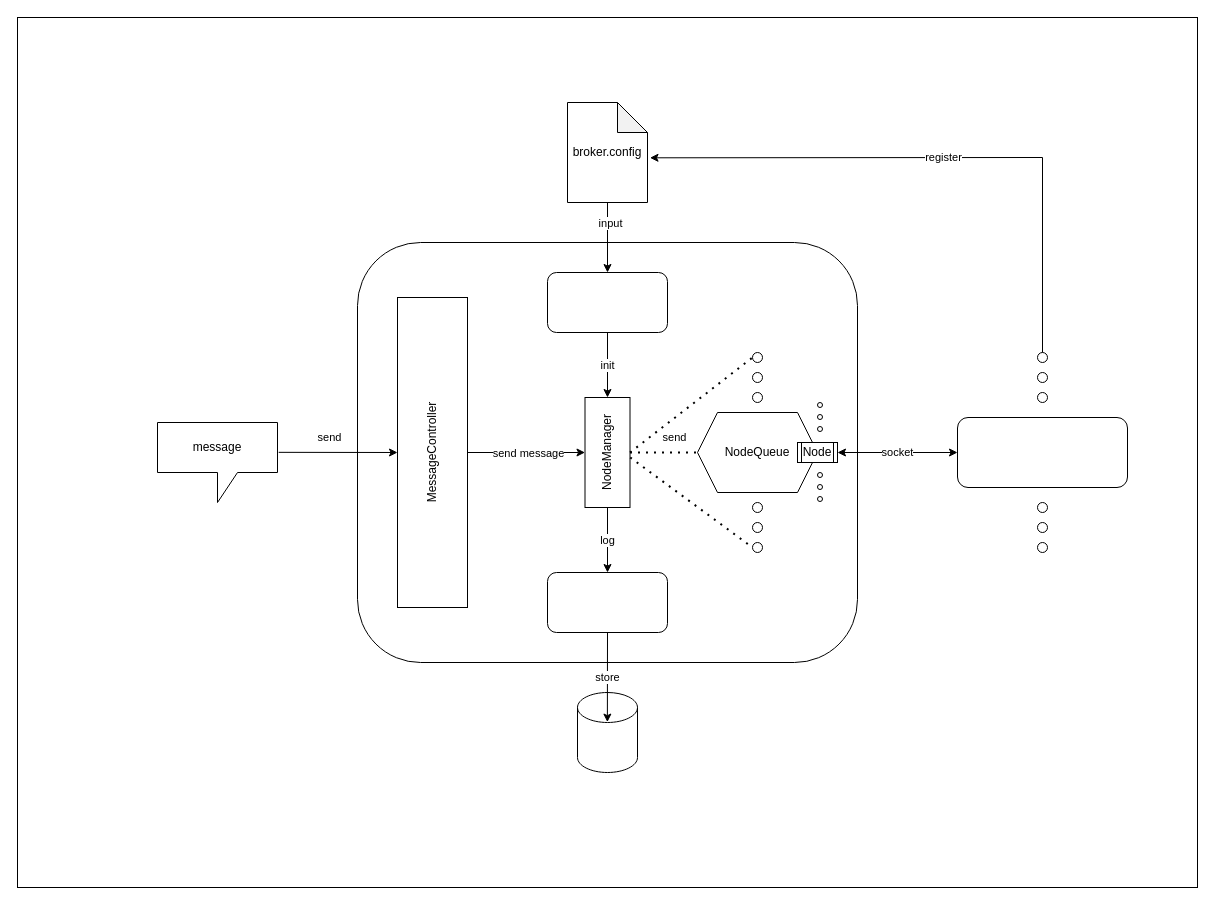
This 1215x905 diagram has some shape labels left out. The shapes that lost their labels are listed below. From the top down, each one's centre as x and y in pixels, then its label:
At point 607,302: "ConfigService".
At point 1042,452: "Independent Nodes".
At point 607,602: "LogService".
